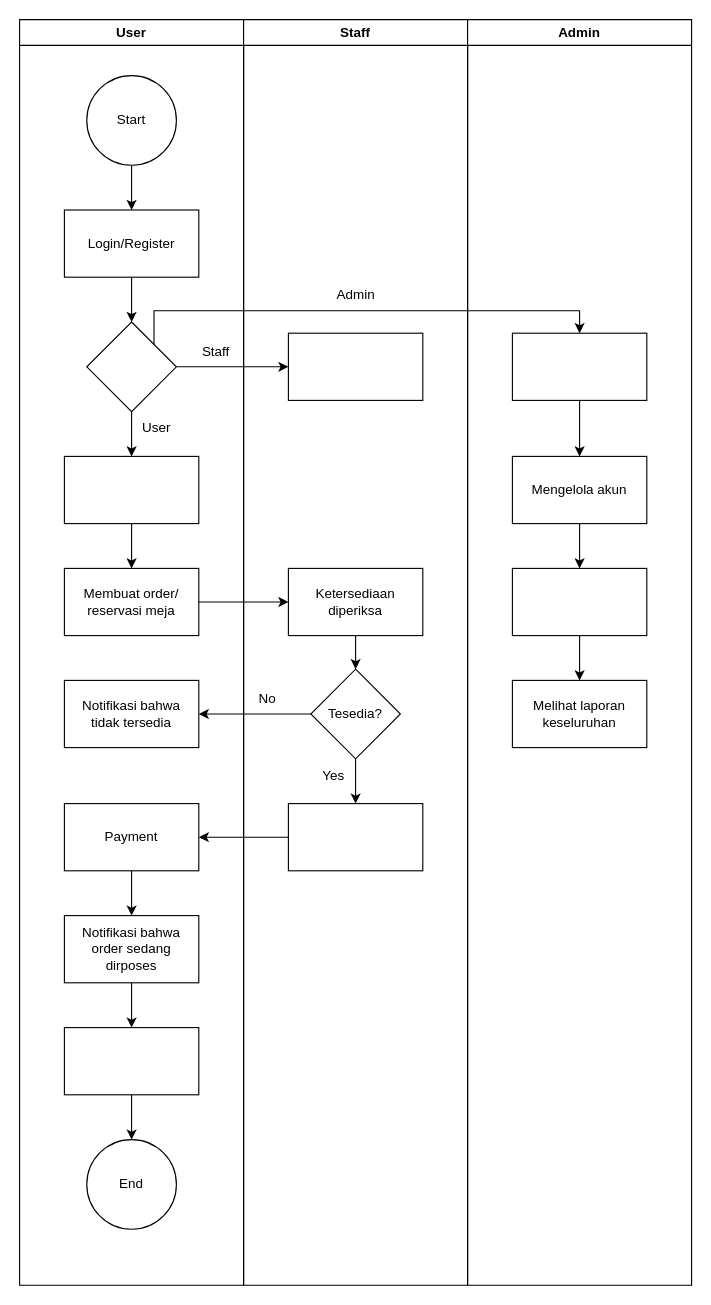
Some shapes in this 711 by 1305 pixel diagram are drawn without their labels. The shapes that lost their labels are listed below. From the top down, each one's box as (x1, y1, x2, y2) in pixels, then its label:
(86, 321, 176, 412): Akun?
(287, 332, 423, 400): Halaman Staff
(511, 332, 647, 400): Halaman Admin
(63, 455, 199, 524): Halaman User
(511, 567, 647, 636): Menyetel harga
(287, 802, 423, 871): Order/reservasi diproses
(63, 1026, 199, 1095): Dine In/Take Out
